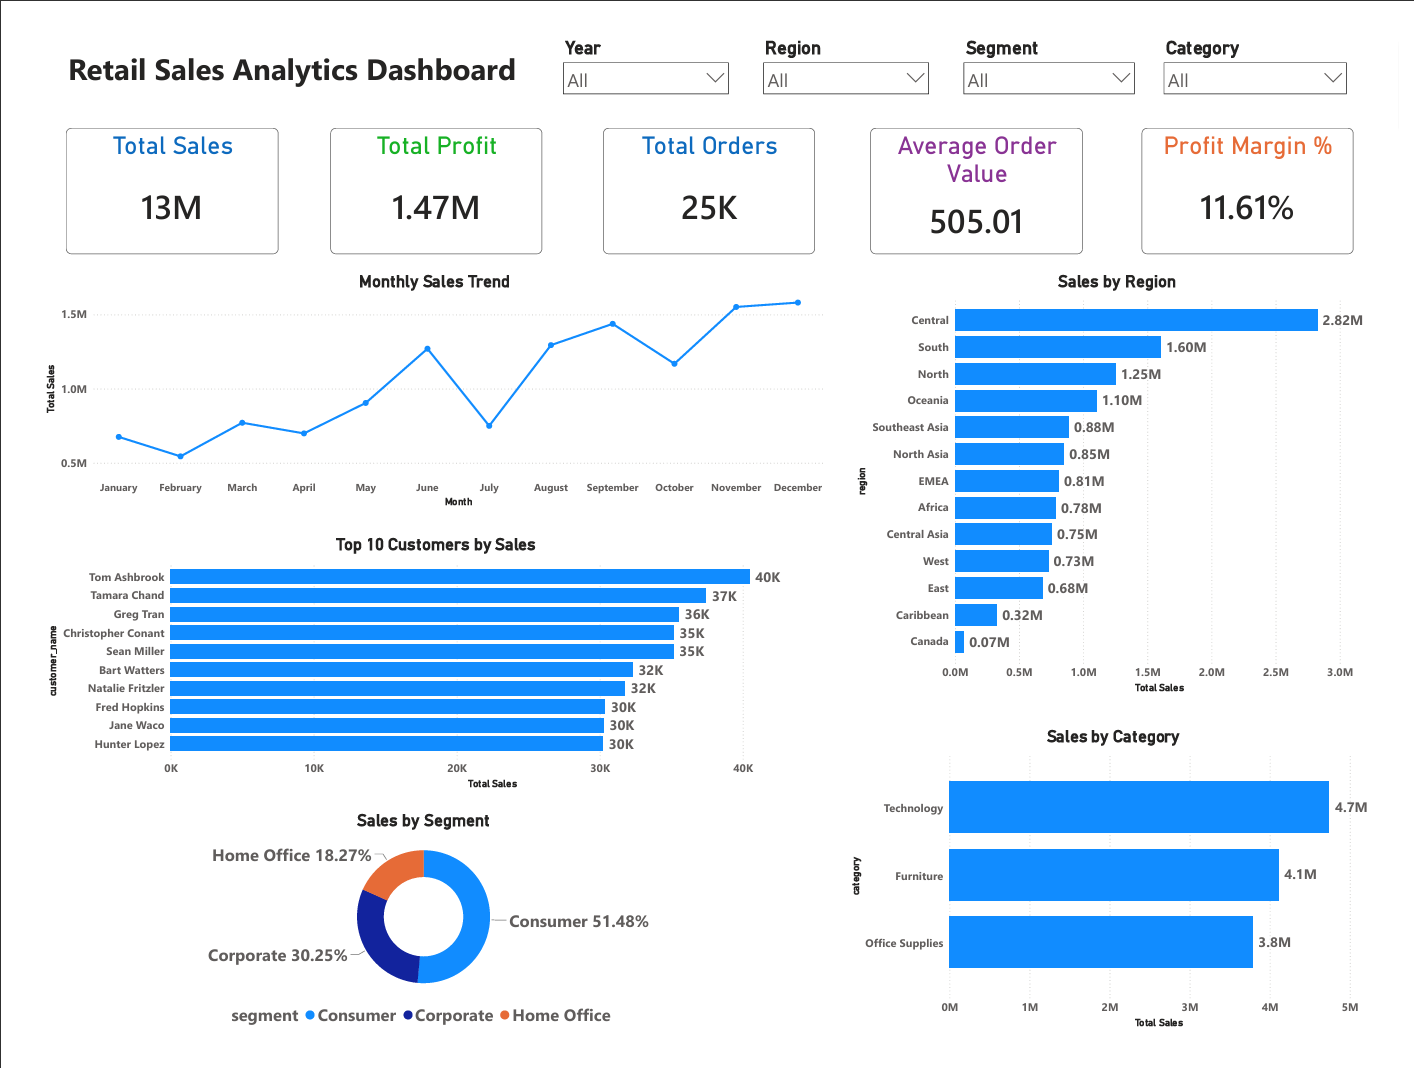

The page's visual inventory and layout, read from the dashboard file:
{"tool":"powerbi","page":{"name":"Page 1","canvas":[2000,1500],"ordinal":0},"visuals":[{"type":"cardVisual","title":"Total Sales","fields":{"Data":["superstore_cleaned.Total Sales"]},"box":[70,160,307.7,182.7],"z":0},{"type":"cardVisual","title":"Total Profit","fields":{"Data":["superstore_cleaned.Total Profit"]},"box":[452.5,160,307.7,182.7],"z":1000},{"type":"cardVisual","title":"Total Orders","fields":{"Data":["superstore_cleaned.Total Orders"]},"box":[847.5,160,307.7,182.7],"z":2000},{"type":"cardVisual","title":"Average Order Value ","fields":{"Data":["superstore_cleaned.Average Order Value"]},"box":[1235,160,307.7,182.7],"z":3000},{"type":"cardVisual","title":"Profit Margin %","fields":{"Data":["superstore_cleaned.Profit Margin %"]},"box":[1627.5,160,307.7,182.7],"z":4000},{"type":"lineChart","title":"Monthly Sales Trend","fields":{"Category":["superstore_cleaned.order_date.Variation.Date Hierarchy.Month"],"Y":["superstore_cleaned.Total Sales"]},"box":[35,367.5,1137.5,347.5],"z":5000},{"type":"clusteredBarChart","title":"Sales by Category","fields":{"Category":["superstore_cleaned.category"],"Y":["superstore_cleaned.Total Sales"]},"box":[1200,1027.5,774,442],"z":6000},{"type":"clusteredBarChart","title":"Sales by Region","fields":{"Category":["superstore_cleaned.region"],"Y":["superstore_cleaned.Total Sales"]},"box":[1210,367.5,765,617.5],"z":7000},{"type":"donutChart","title":"Sales by Segment","fields":{"Category":["superstore_cleaned.segment"],"Y":["superstore_cleaned.Total Sales"]},"box":[20,1150,1136,320],"z":8000},{"type":"clusteredBarChart","title":"Top 10 Customers by Sales","fields":{"Category":["superstore_cleaned.customer_name"],"Y":["superstore_cleaned.Total Sales"]},"box":[37.5,750,1136,374],"z":9000},{"type":"slicer","fields":{"Values":["superstore_cleaned.segment"]},"box":[1360,22.5,267.5,112.5],"z":10000},{"type":"slicer","fields":{"Values":["superstore_cleaned.region"]},"box":[1070,22.5,260,112.5],"z":11000},{"type":"slicer","fields":{"Values":["superstore_cleaned.order_date.Variation.Date Hierarchy.Year"]},"box":[780,22.5,260,112.5],"z":12000},{"type":"slicer","fields":{"Values":["superstore_cleaned.category"]},"box":[1650,22.5,285,112.5],"z":13000},{"type":"textbox","box":[35,22.5,725,112.5],"z":14000}]}

Visuals, with their boxes in screenshot pixels (x1, y1, x2, y2), scaled from the page's 2000x1500 canvas onto the 1414x1068 screenshot:
"Total Sales" cardVisual: bbox(49, 114, 267, 244)
"Total Profit" cardVisual: bbox(320, 114, 537, 244)
"Total Orders" cardVisual: bbox(599, 114, 817, 244)
"Average Order Value " cardVisual: bbox(873, 114, 1091, 244)
"Profit Margin %" cardVisual: bbox(1151, 114, 1368, 244)
"Monthly Sales Trend" lineChart: bbox(25, 262, 829, 509)
"Sales by Category" clusteredBarChart: bbox(848, 732, 1396, 1046)
"Sales by Region" clusteredBarChart: bbox(855, 262, 1396, 701)
"Sales by Segment" donutChart: bbox(14, 819, 817, 1047)
"Top 10 Customers by Sales" clusteredBarChart: bbox(27, 534, 830, 800)
slicer - superstore_cleaned.segment: bbox(962, 16, 1151, 96)
slicer - superstore_cleaned.region: bbox(756, 16, 940, 96)
slicer - superstore_cleaned.order_date.Variation.Date Hierarchy.Year: bbox(551, 16, 735, 96)
slicer - superstore_cleaned.category: bbox(1167, 16, 1368, 96)
textbox: bbox(25, 16, 537, 96)
